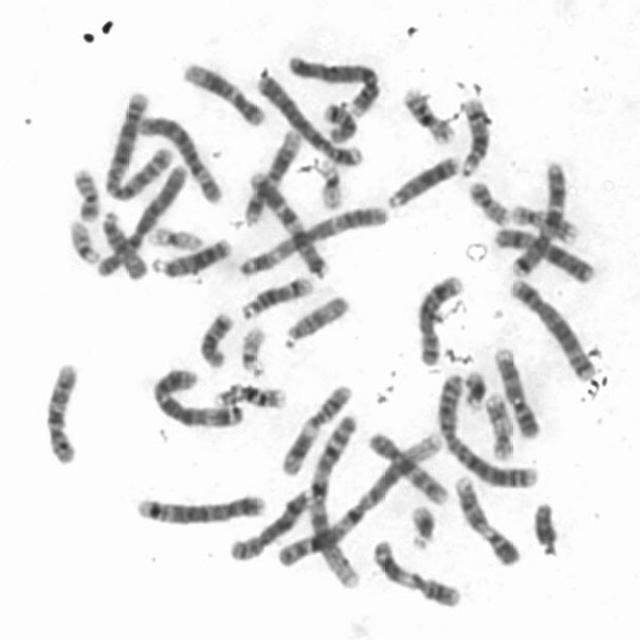A1: (268, 427, 444, 570), (303, 408, 365, 591)
A2: (432, 368, 542, 491), (99, 85, 174, 203)
A3: (233, 200, 393, 278), (144, 362, 246, 430)
B4: (253, 70, 367, 168), (284, 48, 384, 118)
B5: (504, 273, 598, 383), (131, 490, 267, 526)
C10: (365, 428, 452, 508), (40, 356, 83, 467)
C11: (276, 376, 355, 476), (368, 533, 466, 610)
C12: (176, 54, 268, 128), (239, 125, 305, 226)
C6: (92, 158, 190, 280), (133, 110, 225, 206)
C7: (243, 166, 332, 280), (508, 155, 568, 278)
C8: (223, 482, 314, 564), (414, 269, 466, 368)
C9: (450, 469, 524, 568), (490, 342, 543, 442)
D13: (383, 149, 463, 210), (147, 233, 233, 278)
D14: (237, 271, 316, 320), (453, 91, 494, 178)
D15: (279, 289, 351, 351), (97, 205, 150, 281)
E16: (397, 80, 459, 146), (210, 378, 290, 410)
E17: (507, 196, 583, 244), (481, 389, 515, 461)
E18: (196, 306, 237, 370), (318, 98, 359, 144)
F19: (141, 220, 204, 253), (311, 153, 346, 212)
F20: (464, 176, 510, 226), (68, 163, 102, 222)
G21: (404, 500, 438, 550), (458, 364, 489, 414)
G22: (234, 320, 270, 378), (65, 216, 102, 266)
X: (492, 223, 600, 286)
Y: (529, 496, 560, 555)
